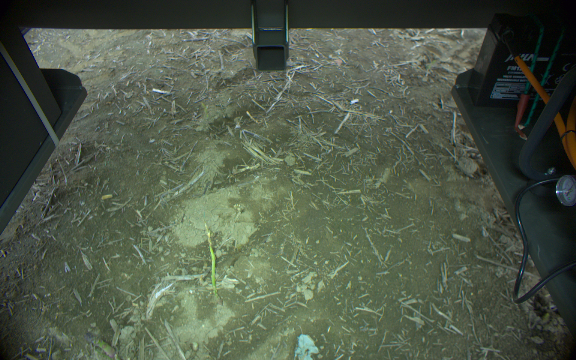aspa: (200, 221, 224, 305)
